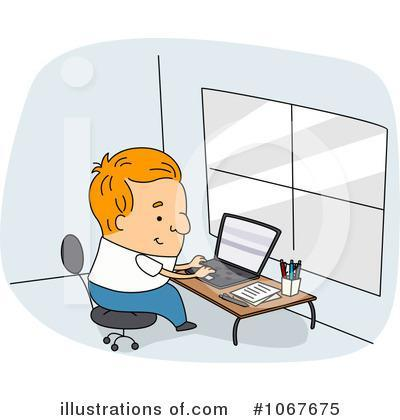chair: (54, 231, 161, 349)
person: (82, 143, 212, 331)
tvmonitor: (185, 211, 285, 287)
